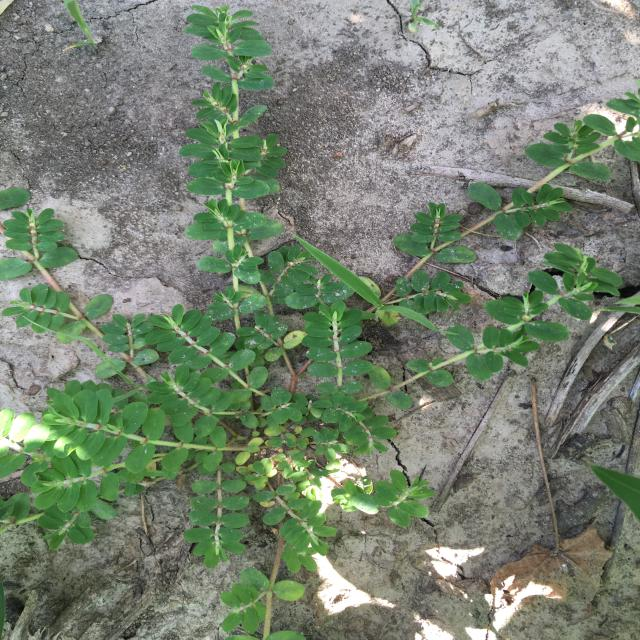SpottedSpurge: (0, 5, 639, 640)
